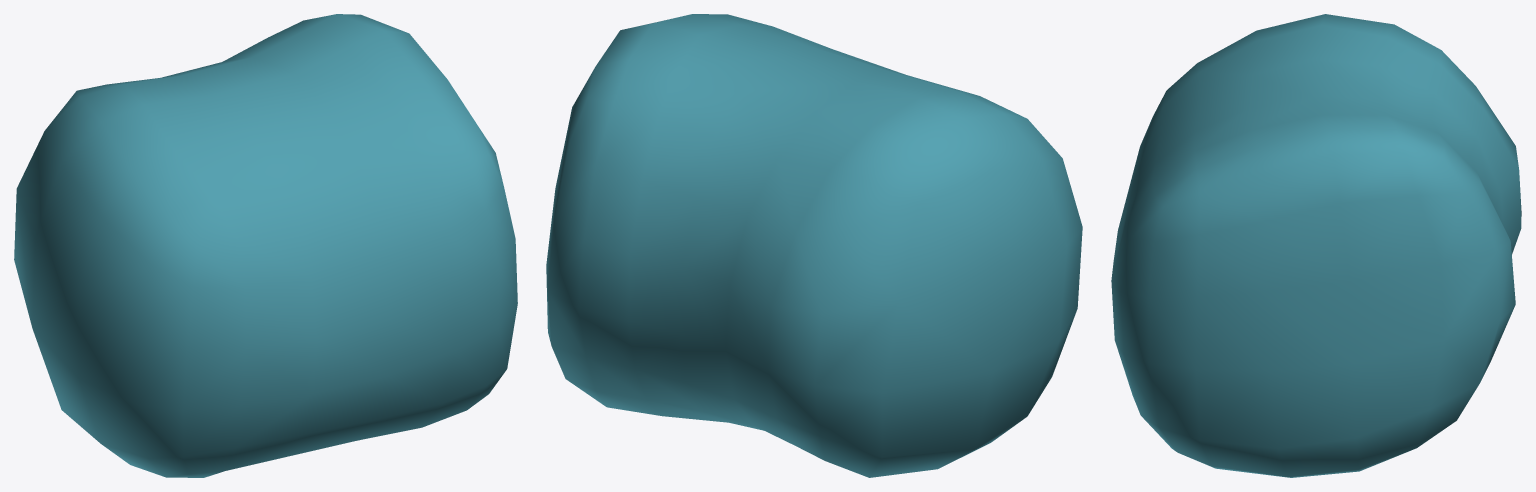
File: VIS_Alpha_Surface_041.dae
3 views of the same model, side by side, from view 1: azimuth 30°, elevation 25°; view 2: azimuth 150°, elevation 25°; view 3: azimuth 270°, elevation 25° (orthographic). The views are drawn at different scales.
Parts seen in each view (by area): view 1: VIS_Alpha_Surface_041; view 2: VIS_Alpha_Surface_041; view 3: VIS_Alpha_Surface_041.
Boxes of the visible parts, x1,y1,x2,y2 form: VIS_Alpha_Surface_041: (14, 14, 517, 477); VIS_Alpha_Surface_041: (546, 14, 1082, 477); VIS_Alpha_Surface_041: (1111, 14, 1521, 477).
Size of the model in its own units: 0.026 by 0.0227 by 0.0211.
